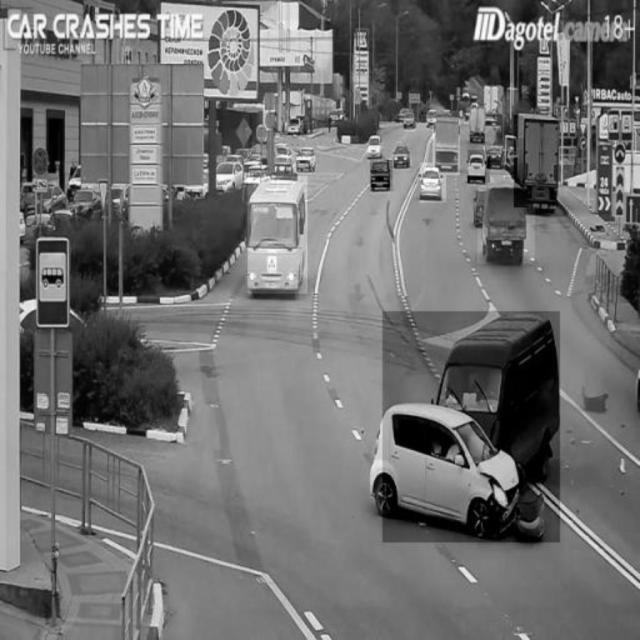accident: (382, 311, 560, 542)
vehicle: (247, 176, 308, 294), (478, 175, 535, 263), (514, 115, 558, 207), (432, 118, 460, 175), (420, 164, 446, 204), (468, 151, 490, 183), (370, 159, 392, 187)
